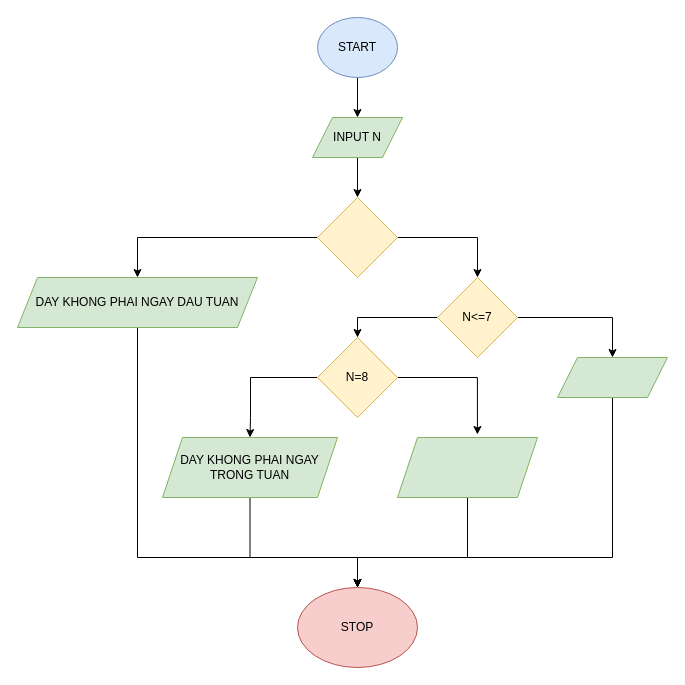
This 685x685 diagram has some shape labels left out. The centre of each missing label's shape, as x and y in pixels:
DAY LA CHU NHAT: point 467,467
DAY LA THU N: point 612,377
N>=2: point 357,237
